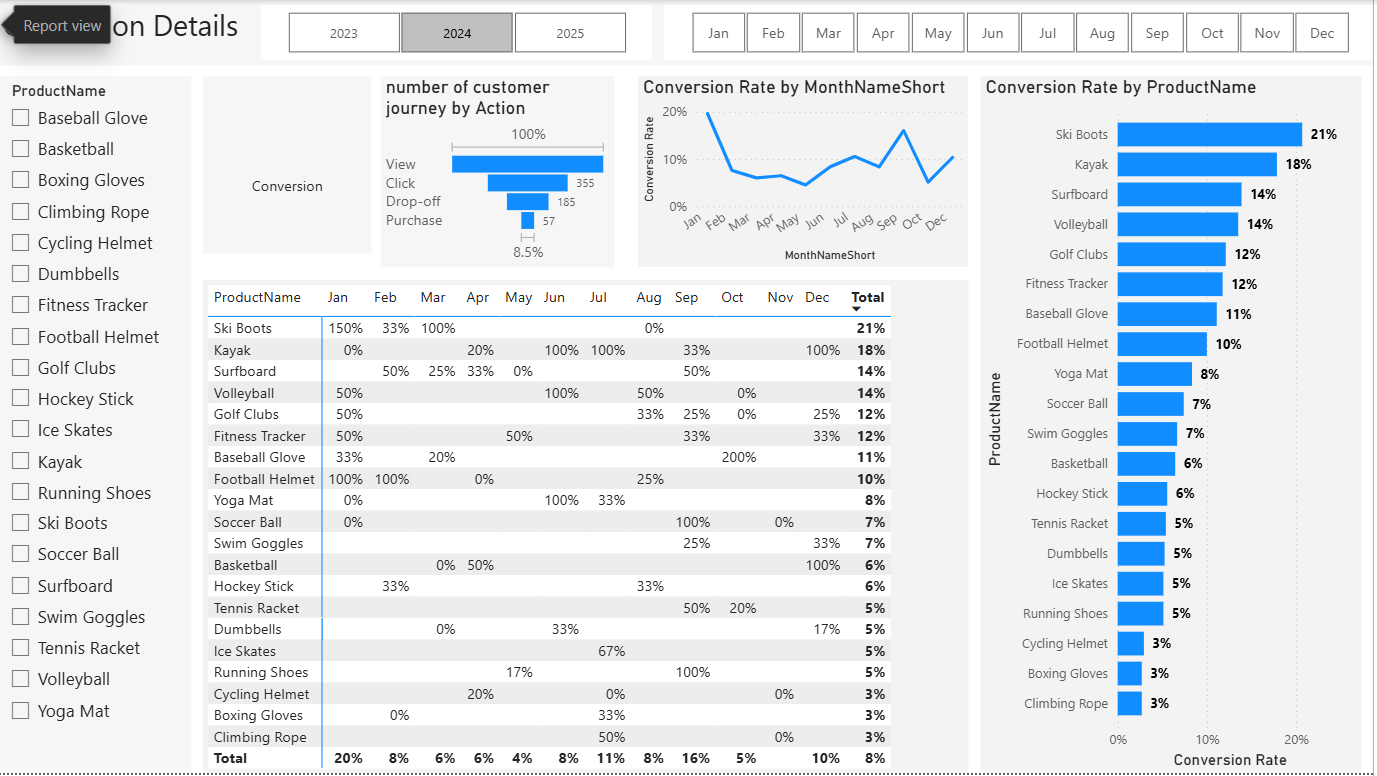

Layout of this report page (visuals, bound fields, positions):
{"tool":"powerbi","page":{"name":"Conversion Details","canvas":[1280,720],"ordinal":1},"visuals":[{"type":"textbox","box":[0,0,1280.2,60.5],"z":0},{"type":"slicer","fields":{"Values":["dim_products.ProductName"]},"box":[0,70.9,180.2,648.8],"z":1000},{"type":"textbox","box":[190.7,70.9,157,165.1],"z":2000},{"type":"pivotTable","fields":{"Values":["Calculator.Conversion Rate"],"Rows":["dim_products.ProductName"],"Columns":["Calendar.MonthNameShort"]},"box":[190.7,260.5,711.6,459.3],"z":3000},{"type":"slicer","fields":{"Values":["Calendar.Year"]},"box":[244.2,4.7,364,51.2],"z":4000},{"type":"slicer","fields":{"Values":["Calendar.MonthNameShort"]},"box":[619.8,4.7,660.5,51.2],"z":5000},{"type":"lineChart","fields":{"Y":["Calculator.Conversion Rate"],"Category":["Calendar.MonthNameShort"]},"box":[595.4,70.9,307,177.9],"z":6000},{"type":"barChart","fields":{"Category":["dim_products.ProductName"],"Y":["Calculator.Conversion Rate"]},"box":[914,70.9,354.7,648.8],"z":7000},{"type":"funnel","fields":{"Y":["Calculator.number of customer"],"Category":["fact_customer_journey.Action"]},"box":[355.8,70.9,217.4,177.9],"z":8000}]}

Visuals, with their boxes on the page's 1280x720 design canvas (x1, y1, x2, y2). These are canvas units, not pixel positions in the 1377x776 screenshot, which may show the page scaled, cropped or inside an application window:
textbox: box(0, 0, 1280, 60)
slicer - dim_products.ProductName: box(0, 71, 180, 720)
textbox: box(191, 71, 348, 236)
pivotTable - Calculator.Conversion Rate x dim_products.ProductName: box(191, 260, 902, 720)
slicer - Calendar.Year: box(244, 5, 608, 56)
slicer - Calendar.MonthNameShort: box(620, 5, 1280, 56)
lineChart - Calculator.Conversion Rate x Calendar.MonthNameShort: box(595, 71, 902, 249)
barChart - dim_products.ProductName x Calculator.Conversion Rate: box(914, 71, 1269, 720)
funnel - Calculator.number of customer x fact_customer_journey.Action: box(356, 71, 573, 249)
